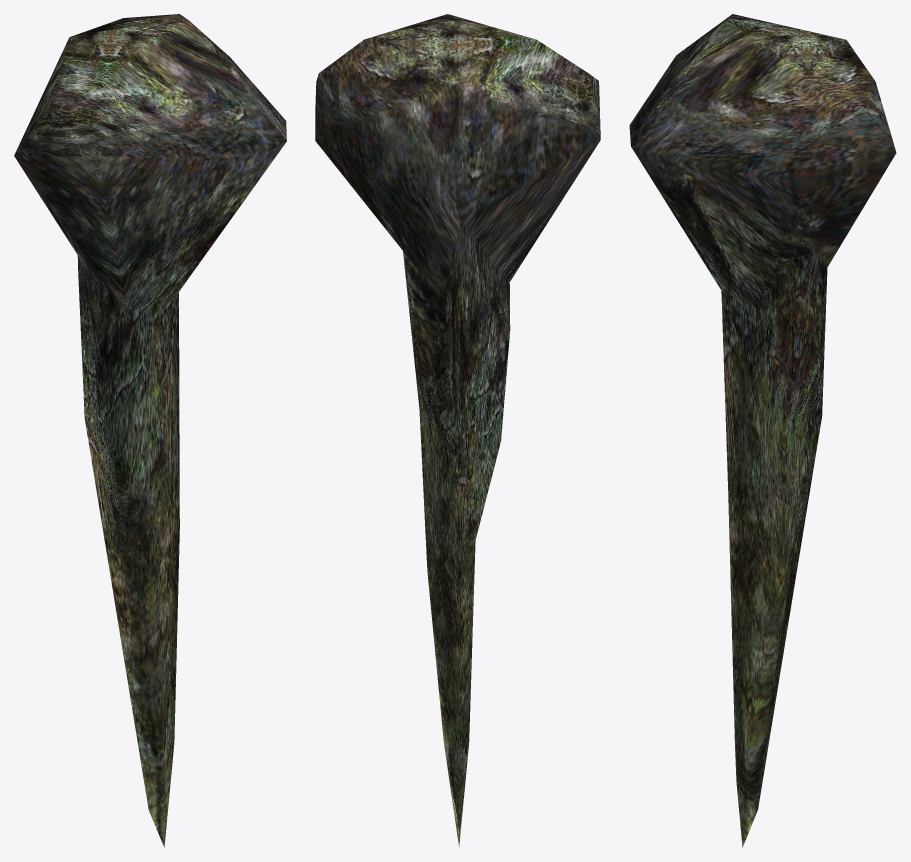
The model's file is thm_all_cave_stalagtite_damprock_a2_l0.fbx.
3 renders of one model, left to right at view 1: azimuth 30°, elevation 25°; view 2: azimuth 150°, elevation 25°; view 3: azimuth 270°, elevation 25°, orthographic. The views are drawn at different scales.
Parts seen in each view (by area): view 1: mesh_node; view 2: mesh_node; view 3: mesh_node.
Part boxes in pixels (left/top/right/bottom): mesh_node: left=14, top=14, right=286, bottom=847; mesh_node: left=315, top=14, right=600, bottom=847; mesh_node: left=629, top=14, right=896, bottom=847.
Bounding box in the file's own units: 0.6292 × 1.92 × 0.5774.
